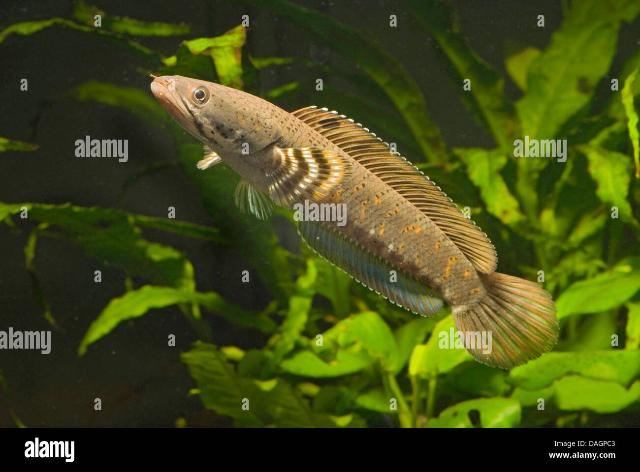Mulut: (144, 70, 220, 144)
Sirip Anal: (288, 212, 448, 324)
Sirip Dada: (266, 142, 356, 214), (190, 143, 230, 171)
Sirip Ekor: (437, 262, 565, 372)
Sirip Perut: (230, 175, 276, 225)
Sirip Punggung: (284, 98, 498, 272)
